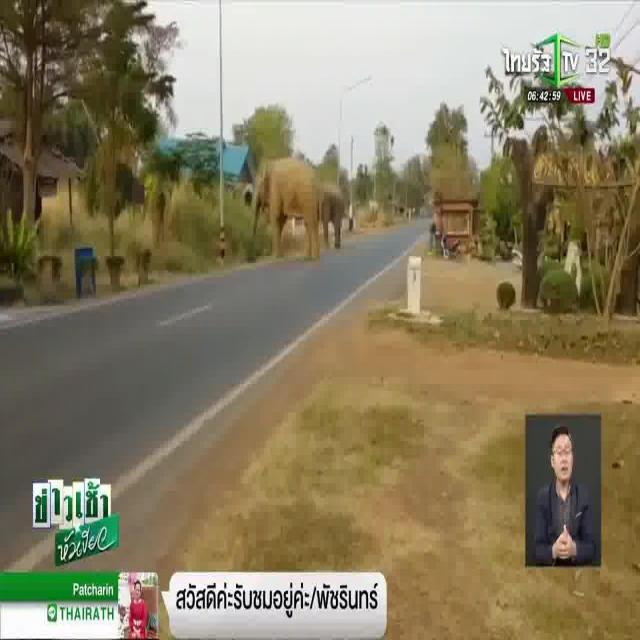Elephant: (250, 151, 324, 249), (312, 178, 347, 244)
